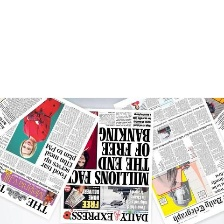news_paper: (112, 96, 224, 224), (0, 96, 102, 221), (59, 107, 156, 224), (0, 96, 51, 150), (199, 95, 224, 150)
